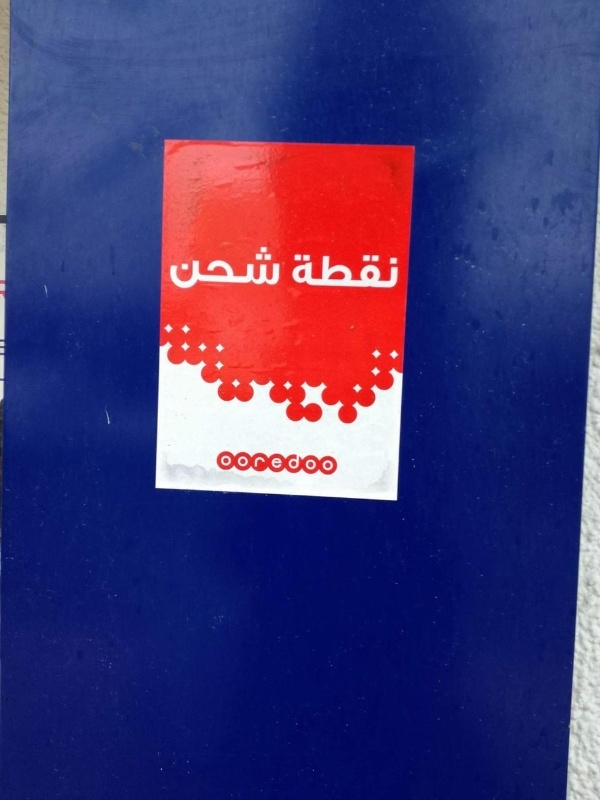text: (177, 245, 192, 290), (193, 245, 208, 290), (209, 245, 224, 290), (225, 245, 240, 290), (241, 245, 256, 290), (257, 245, 272, 290), (385, 252, 401, 289), (305, 252, 320, 289), (321, 252, 336, 289), (337, 252, 352, 289), (353, 252, 368, 289), (369, 252, 384, 289), (273, 245, 283, 290), (292, 252, 304, 289), (167, 245, 176, 290), (225, 453, 240, 471), (241, 453, 256, 471), (257, 453, 272, 471), (273, 453, 288, 471), (289, 453, 304, 471), (305, 453, 320, 471), (321, 453, 335, 471), (221, 453, 224, 471)
